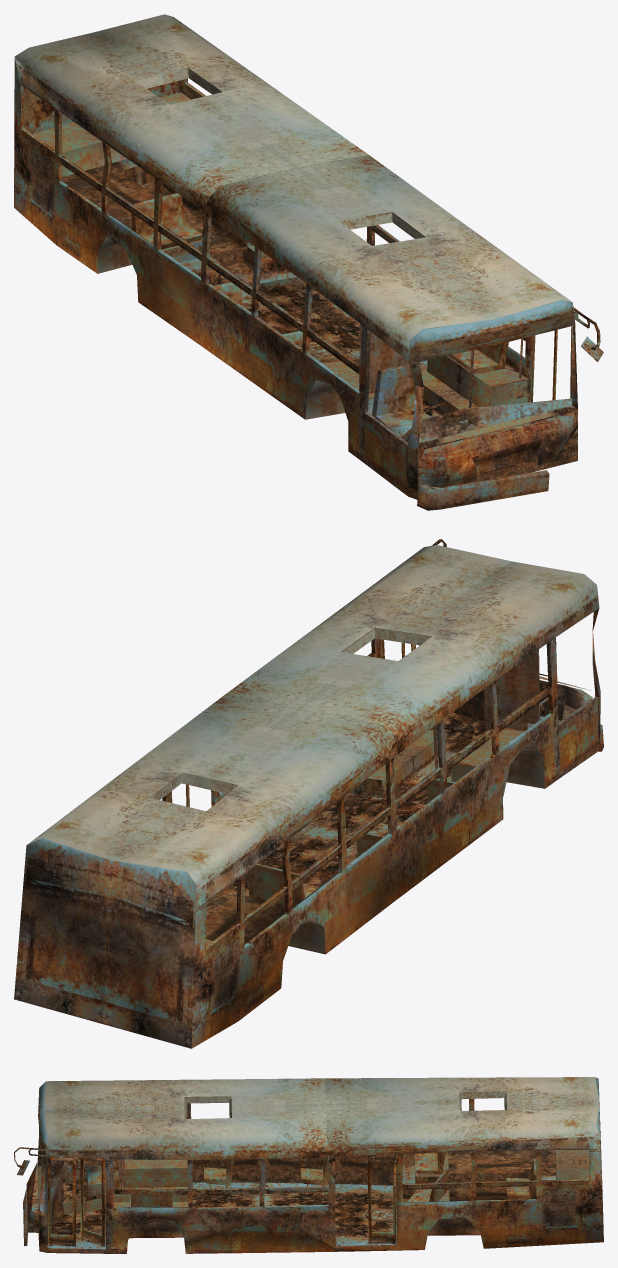
File: Prop_Wj035.glb
3 views of the same model, one above another, from view 1: azimuth 30°, elevation 25°; view 2: azimuth 150°, elevation 25°; view 3: azimuth 270°, elevation 25° (orthographic). The views are drawn at different scales.
Parts seen in each view (by area): view 1: xiutz_wj035; view 2: xiutz_wj035; view 3: xiutz_wj035.
Boxes of the visible parts, left/top/right/bottom form: xiutz_wj035: left=14, top=14, right=603, bottom=510; xiutz_wj035: left=14, top=539, right=603, bottom=1048; xiutz_wj035: left=14, top=1077, right=603, bottom=1253.
Size of the model in its own units: 4.34 by 4.01 by 16.62.
1 material, 1 textured.
